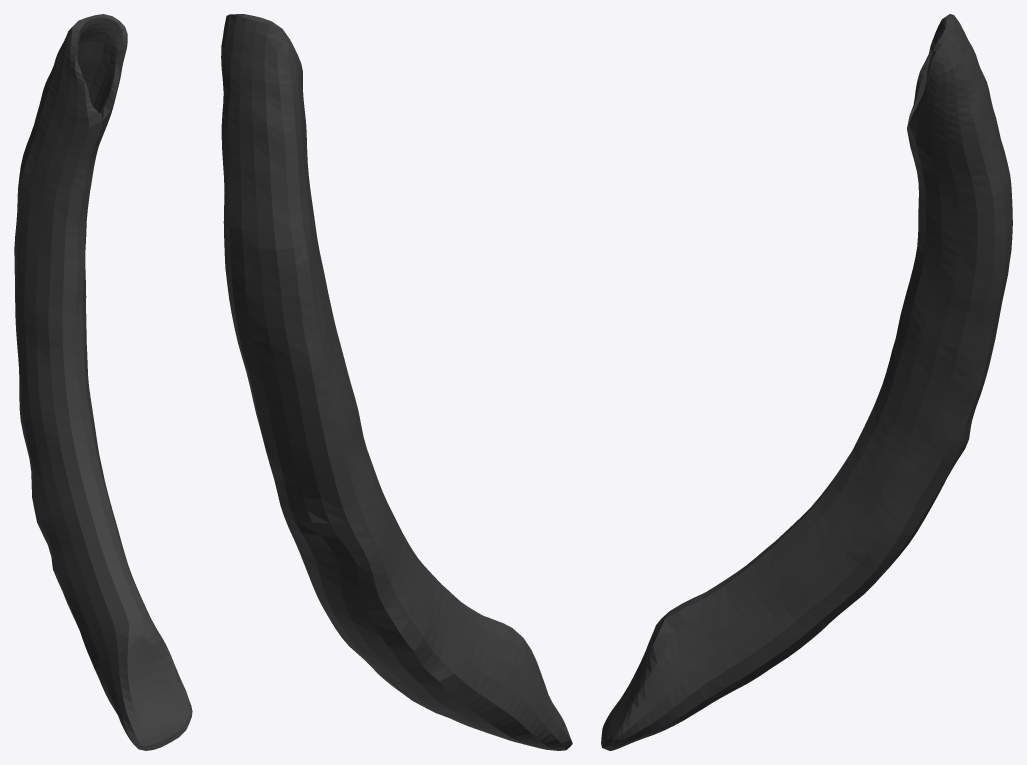
3 renders of one model, left to right at view 1: azimuth 30°, elevation 25°; view 2: azimuth 150°, elevation 25°; view 3: azimuth 270°, elevation 25°, orthographic. The views are drawn at different scales.
Parts seen in each view (by area): view 1: world; view 2: world; view 3: world.
Boxes of the visible parts, box(x1,y1,x2,y2) form: world: box(14, 14, 192, 750); world: box(221, 14, 572, 750); world: box(601, 14, 1012, 750).
Size of the model in its own units: 0.148 by 0.6979 by 0.3392.
Materials: 1 (1 with a texture image).
